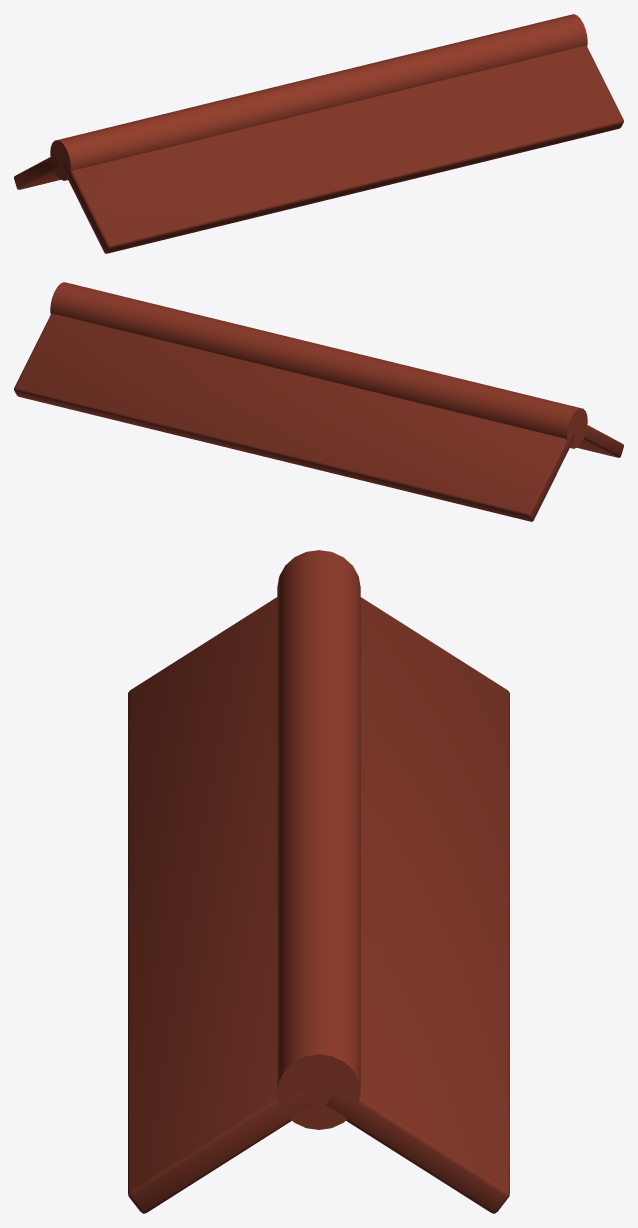
Rendered from Roof_Ridge_2m.glb.
3 views of the same model, one above another, from view 1: azimuth 30°, elevation 25°; view 2: azimuth 150°, elevation 25°; view 3: azimuth 270°, elevation 25° (orthographic). The views are drawn at different scales.
Parts seen in each view (by area): view 1: Roof_Ridge_2m; view 2: Roof_Ridge_2m; view 3: Roof_Ridge_2m.
Boxes of the visible parts, x1=… form: Roof_Ridge_2m: x1=14, y1=14, x2=623, y2=253; Roof_Ridge_2m: x1=14, y1=282, x2=623, y2=521; Roof_Ridge_2m: x1=128, y1=550, x2=509, y2=1213.
Size of the model in its own units: 2 by 0.2982 by 0.6406.
